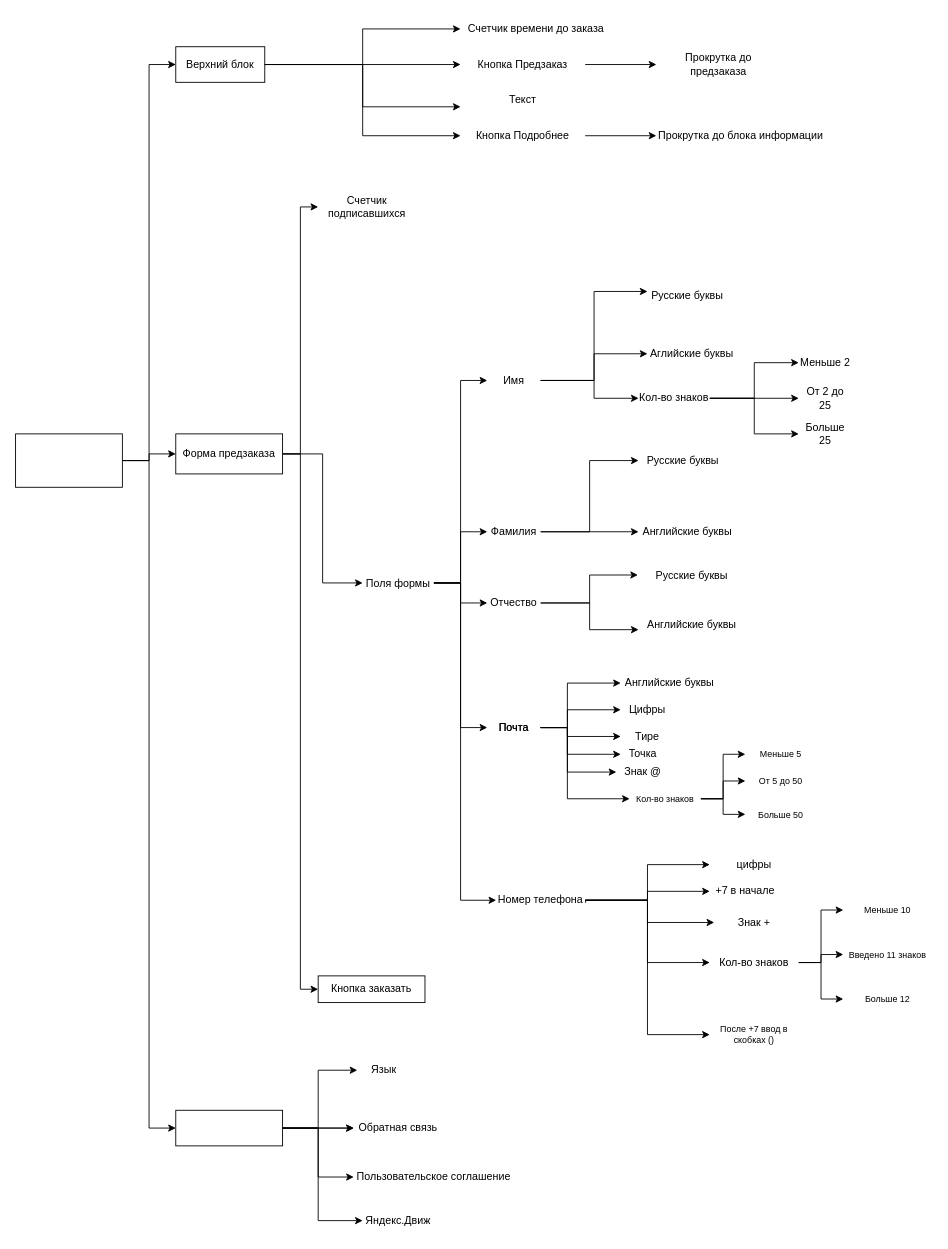
This 948x1249 diagram has some shape labels left out. The centre of each missing label's shape, as x and y in pixels:
"Нижний блок" belongs at (229,1127).
"Промо Яндекс.Самоката" belongs at (68,460).
